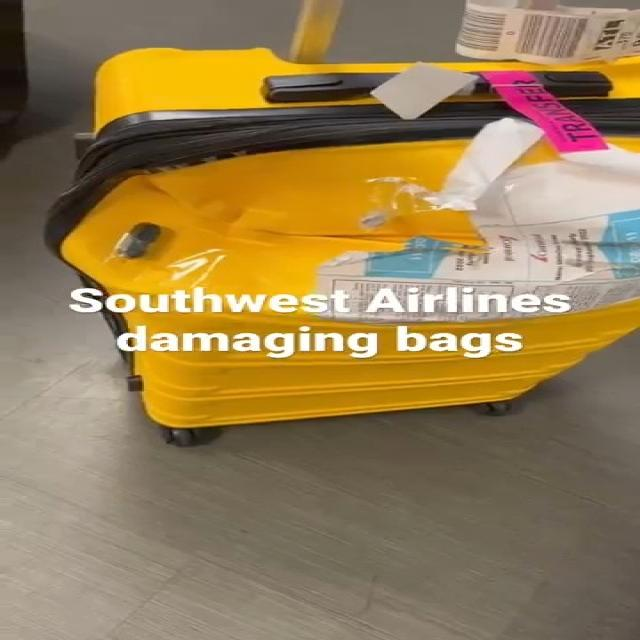Damage-bag: (62, 170, 480, 294)
